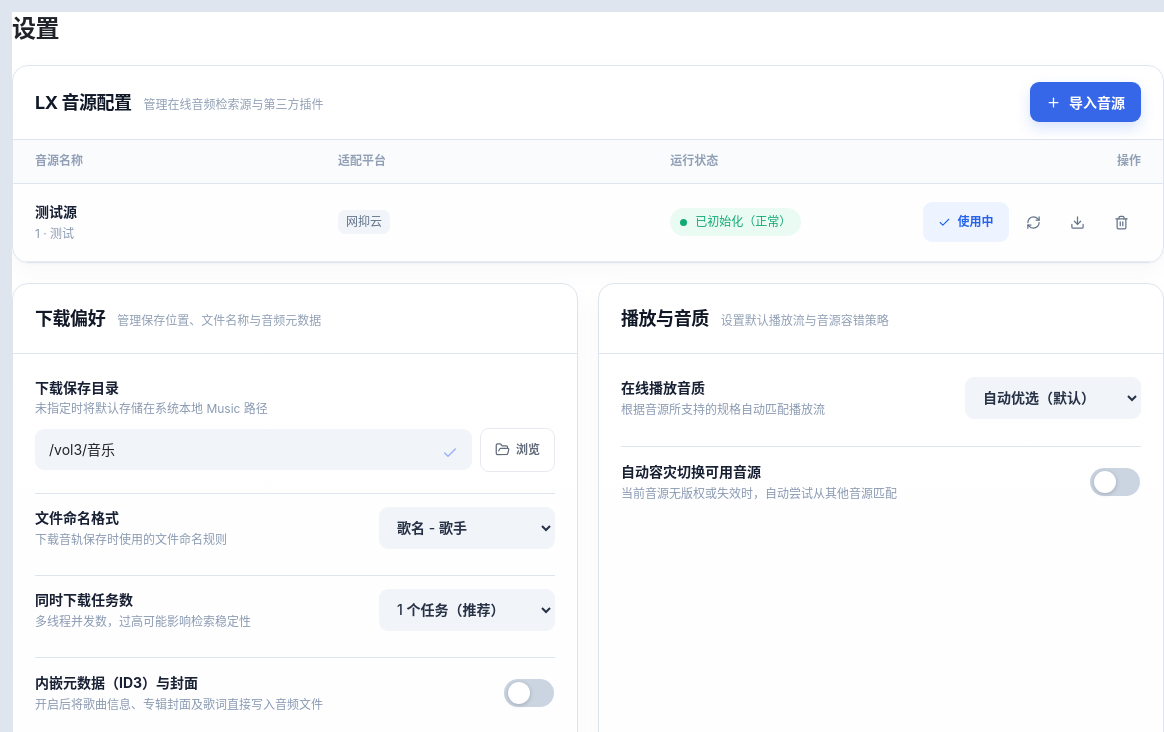
Test: v5 Settings 字段自动保存界面 › 保存过程中启动的GET迟到也不能回滚新设置或缓存
Expected: the dropdown labelled "文件命名格式" is shown, [379, 507, 555, 549]
Step 1. Click the switch named "自动容灾切换可用音源" in the row of "当前音源无版权或失效时，自动尝试从其他音源匹配" → (1115,482), box [1089, 460, 1141, 504]
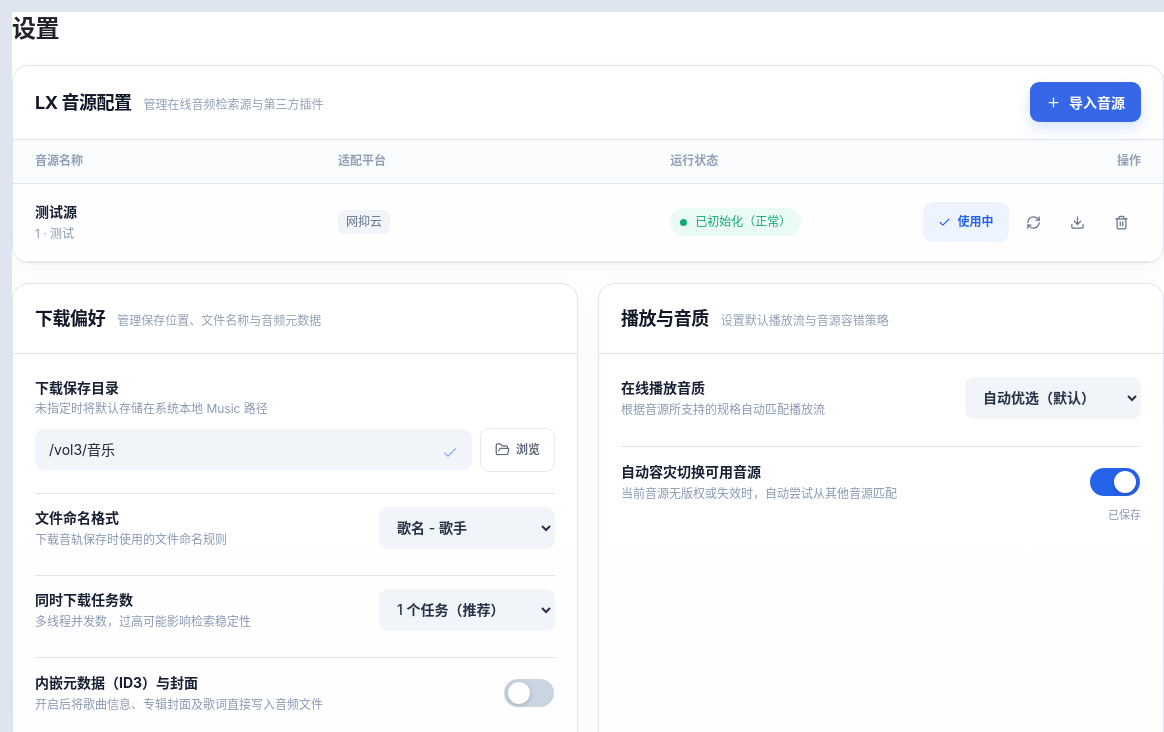
Now the message with id "setting-autoSwitchSource-feedback" reads "已保存", box [1108, 508, 1141, 522]
